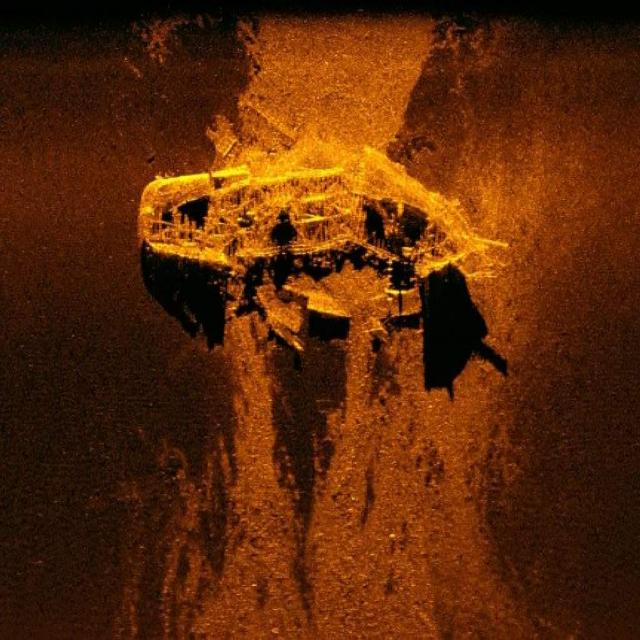ship: (135, 146, 510, 348)
